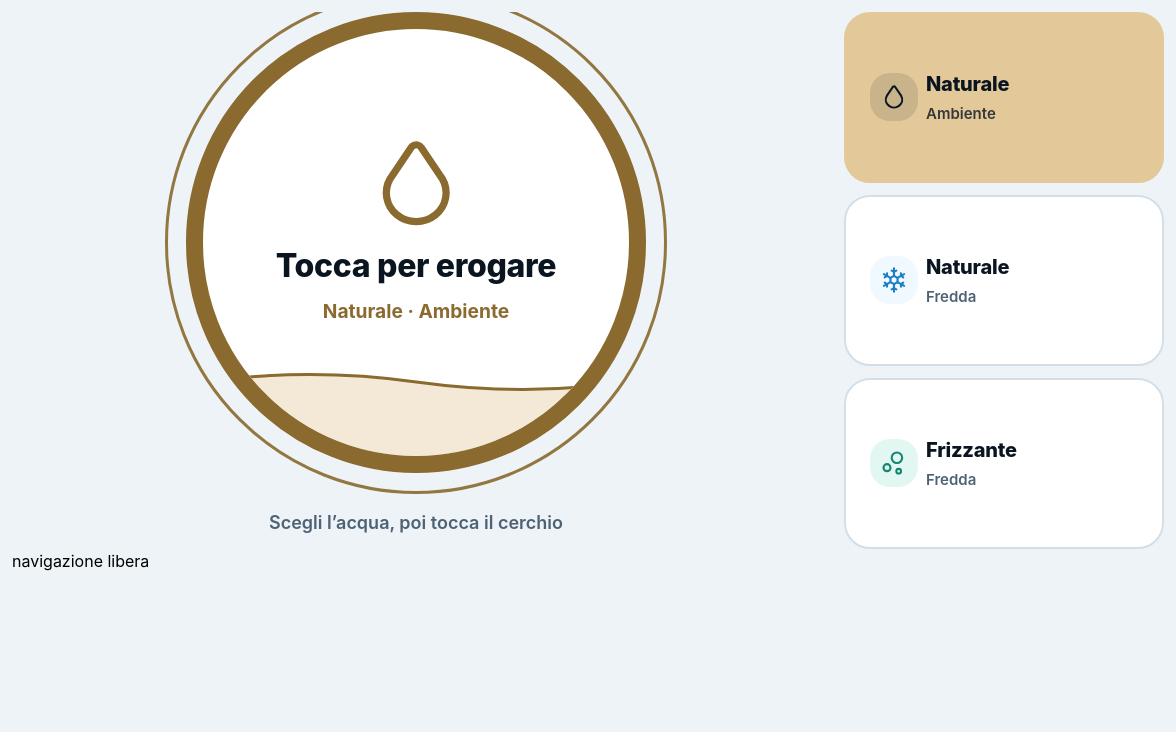
it: Dispenser › counts the time while the valve is open
What coordinates should you click on to do the following:
click the button with aria-label "erogazione"
I would click on:
 (416, 242)
Its box is [186,12,646,473].
Wait 7000 ms
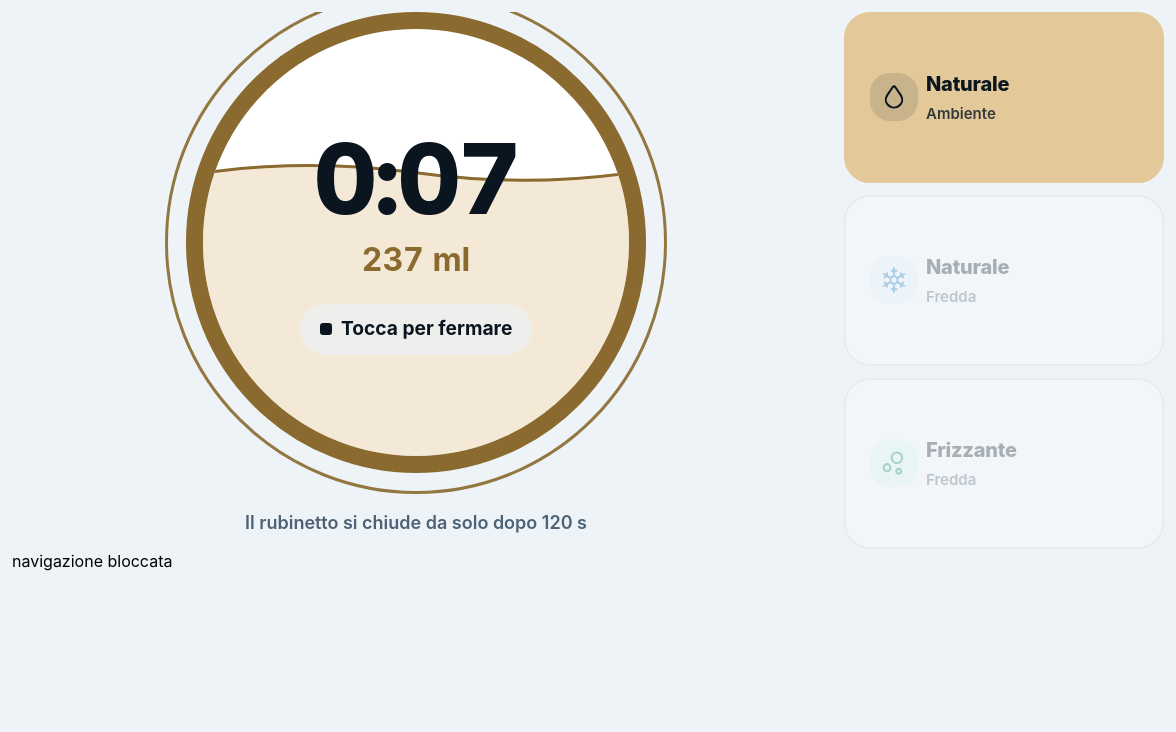
Expected: the text "0:07" is shown, [314,130,518,228]
